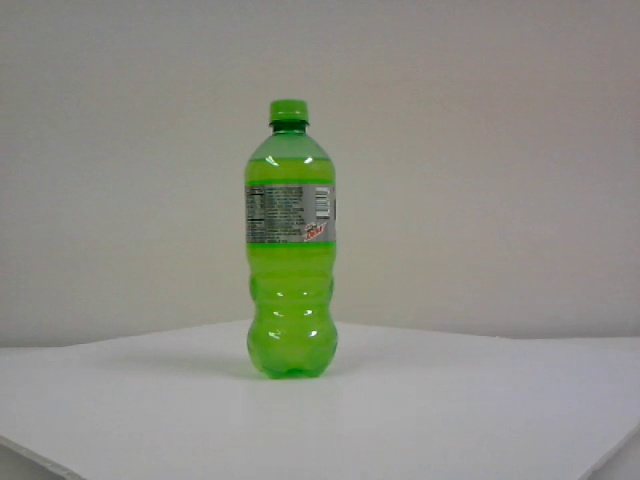botolplastik: (246, 101, 337, 376)
